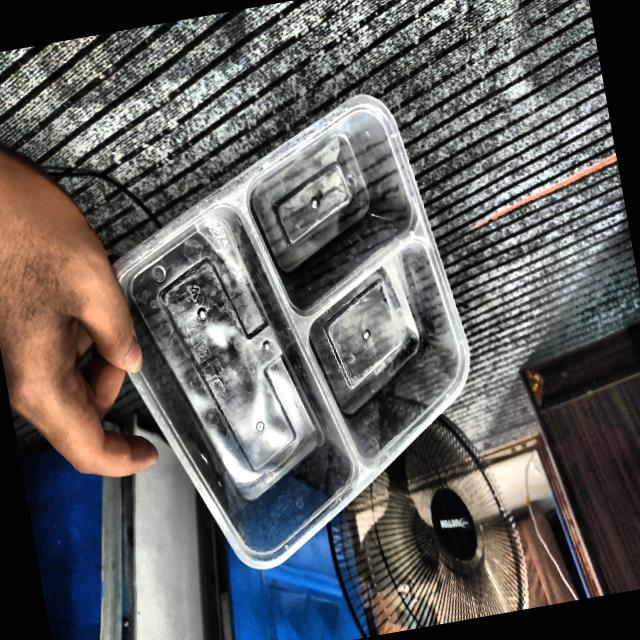plastic container: (114, 95, 469, 568)
